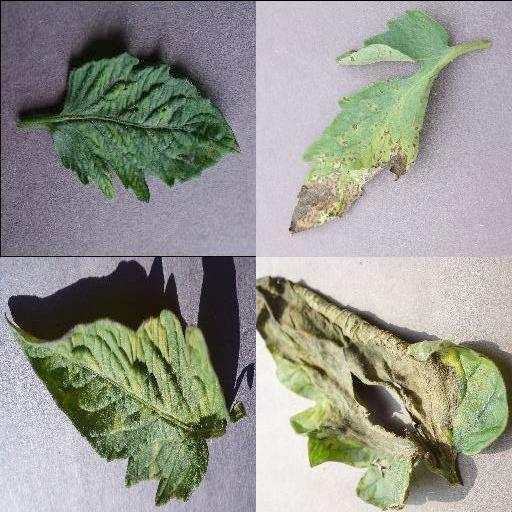Late Blight: (256, 274, 512, 512)
Leaf Mold: (2, 308, 228, 504)
Mosaic Virus: (48, 49, 242, 205)
Septoria: (287, 10, 451, 231)
